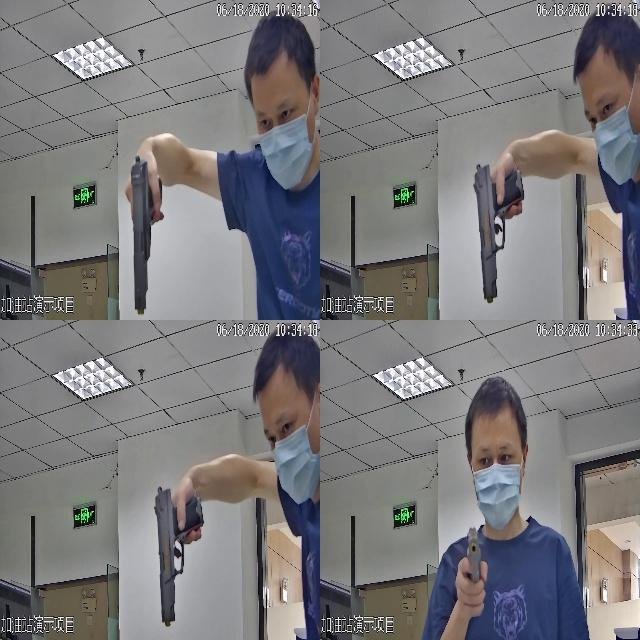gun-knife-thesis - v11 Yolov5 augmented: (148, 481, 211, 620), (468, 158, 531, 295), (120, 152, 164, 309), (454, 521, 485, 616)
